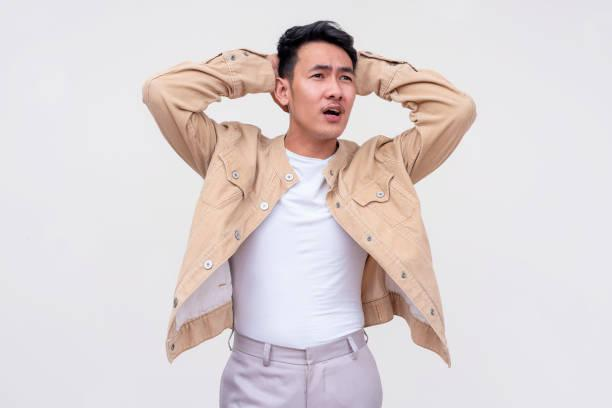Non_Gorille: (169, 11, 495, 357)
